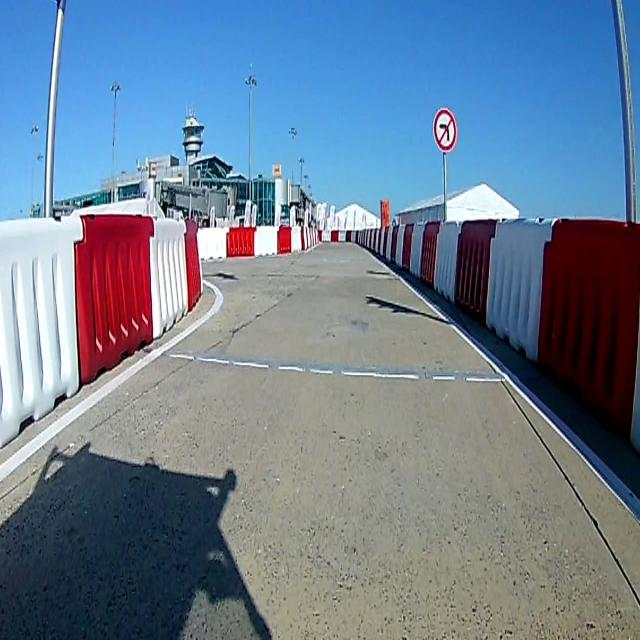soladonulmez: (434, 109, 456, 151)
